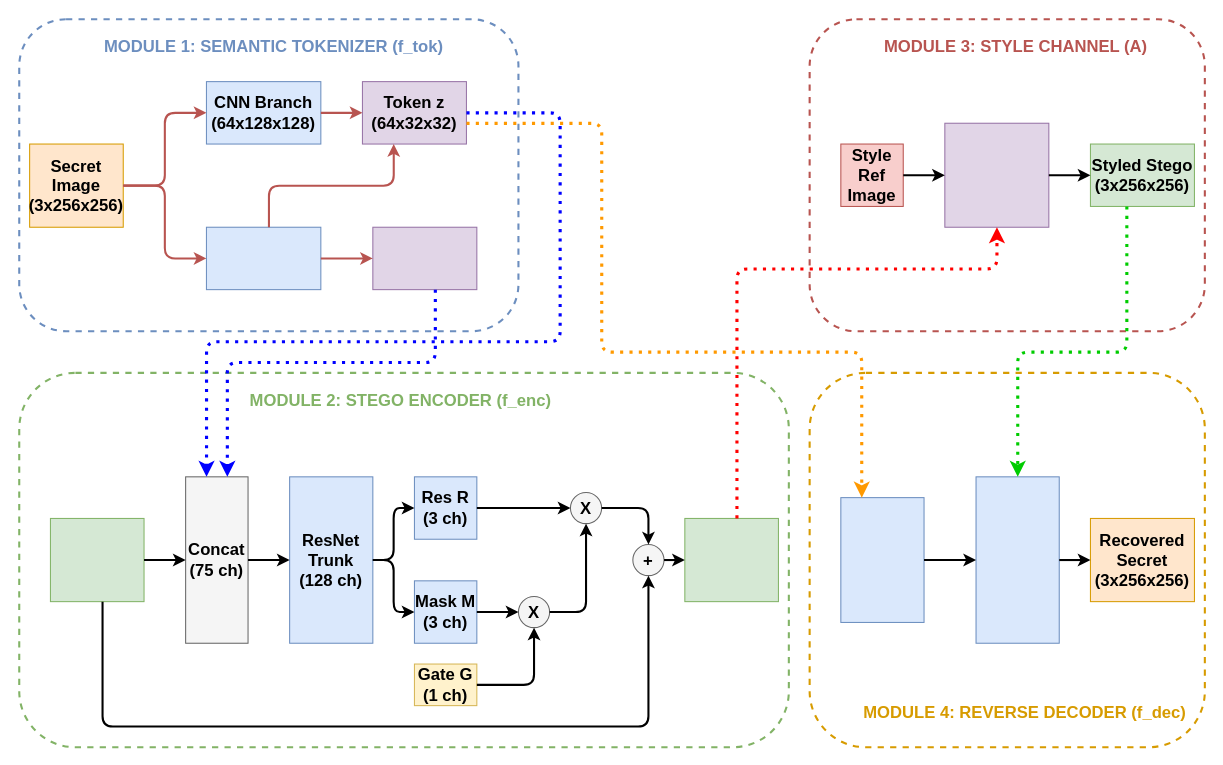
Some shapes in this 1223 by 765 pixel diagram are drawn without their labels. The shapes that lost their labels are listed below. From the top down, each one's centre as x and y in pixels, then its label:
point 996,174: Neural Style Transfer (VGG)
point 263,258: VGG-19 (256x128x128)
point 424,258: Thumb T (3x32x32)
point 96,559: Cover Image (3x256x256)
point 731,559: Stego X (3x256x256)
point 882,559: Prior Decoder
point 1017,559: U-Net Refine
